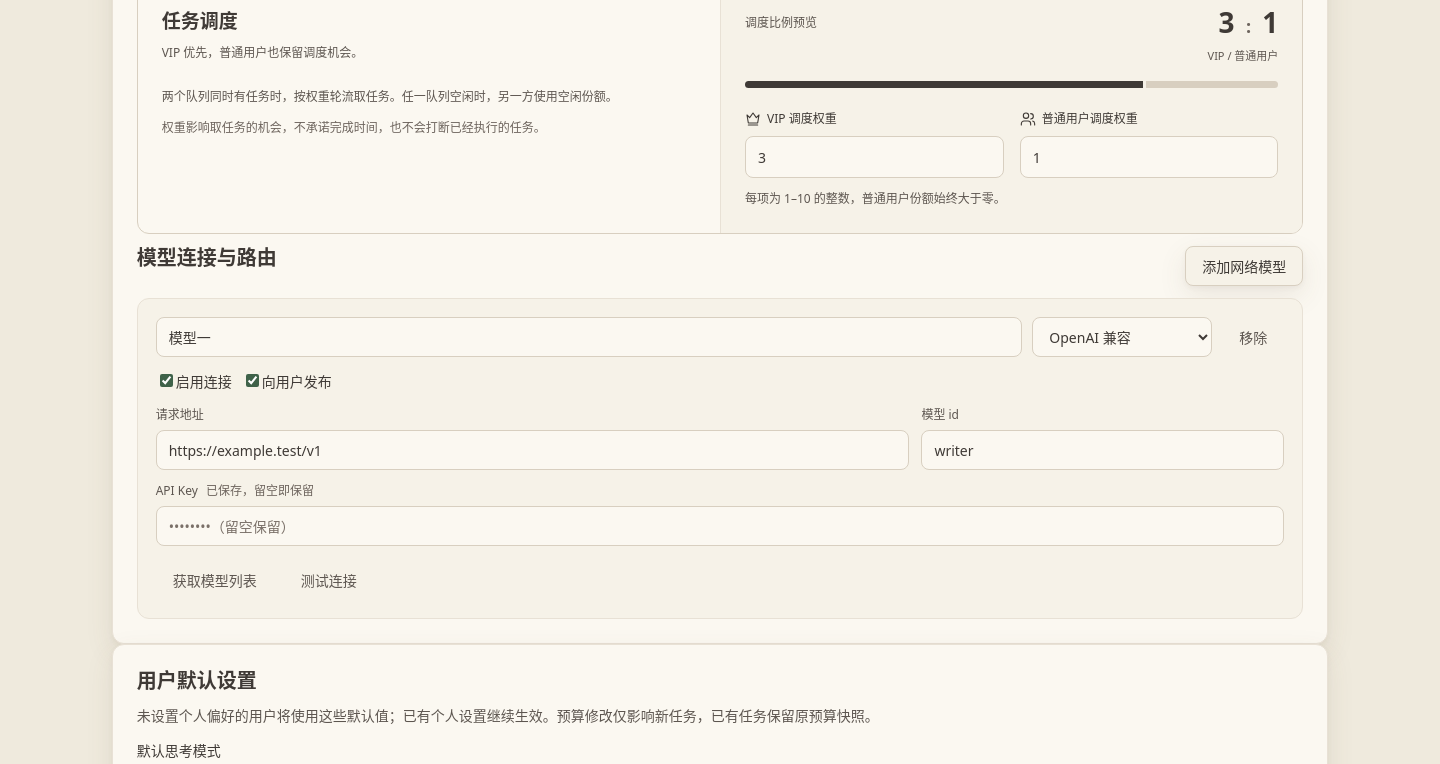
Scenario: saves publication flags, role prompts and version while preserving a blank saved credential
(page scrolled)
Expected: the field showing "模型一" is shown, top-left (156, 317), bottom-right (1022, 357)
Expected: the password field labelled "API Key 已保存，留空即保留" is empty, top-left (156, 506), bottom-right (1284, 546)
Click the checkbox labelled "向用户发布" at (252, 381), box top-left (246, 374), bottom-right (259, 387)
(page scrolled)
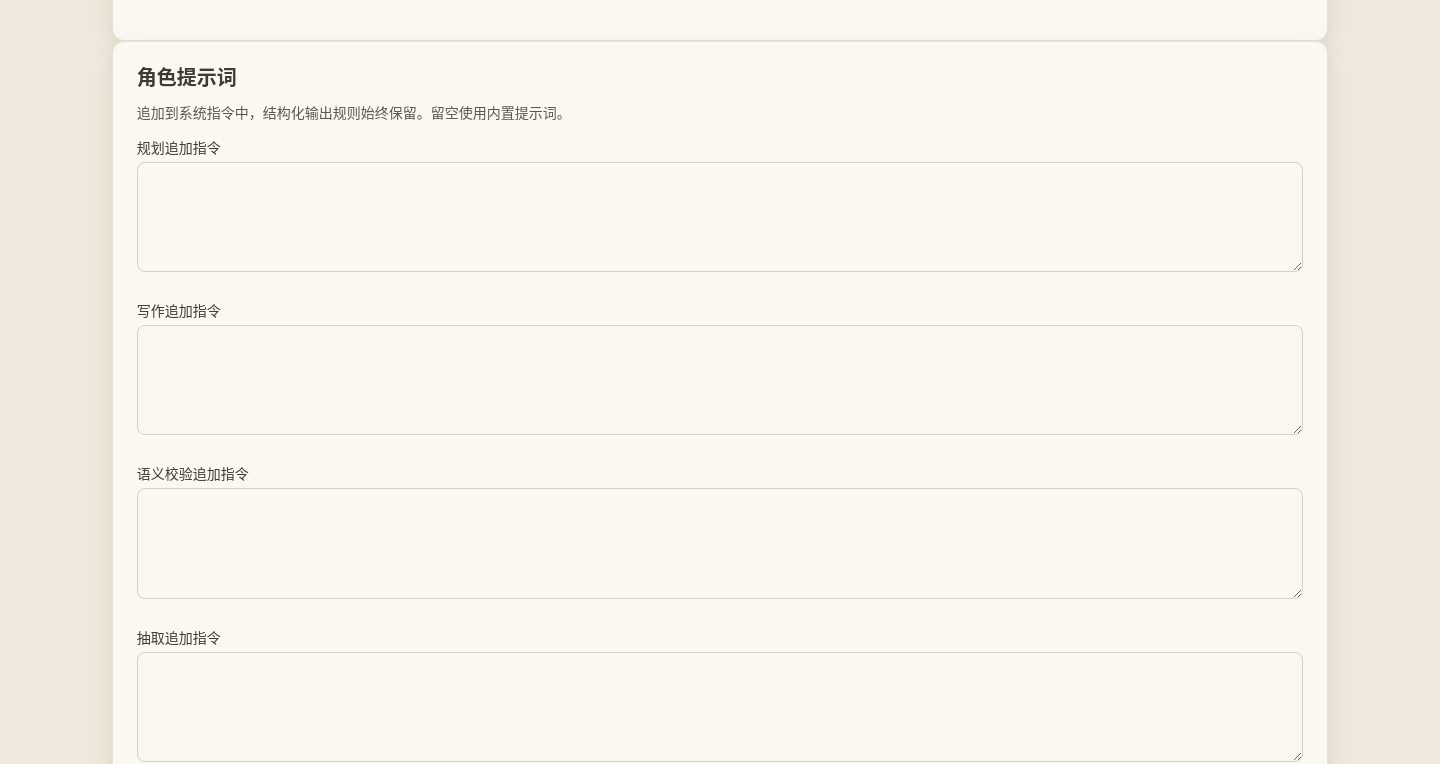
Type "保持中文叙事" into the text box labelled "写作追加指令" at (720, 380), box top-left (137, 325), bottom-right (1303, 435)
(page scrolled)
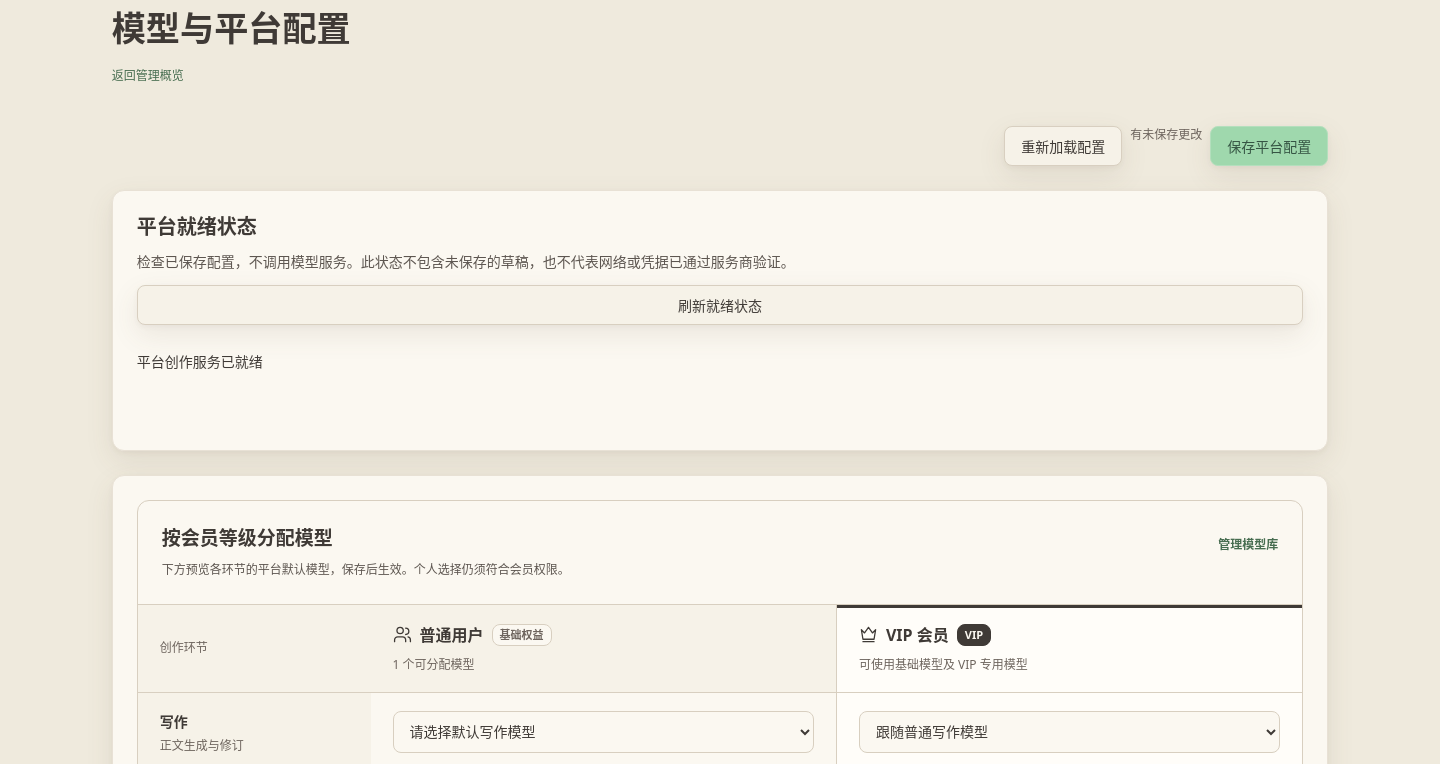
Click the button "保存平台配置" at (1269, 146), box top-left (1210, 126), bottom-right (1328, 166)
(page scrolled)
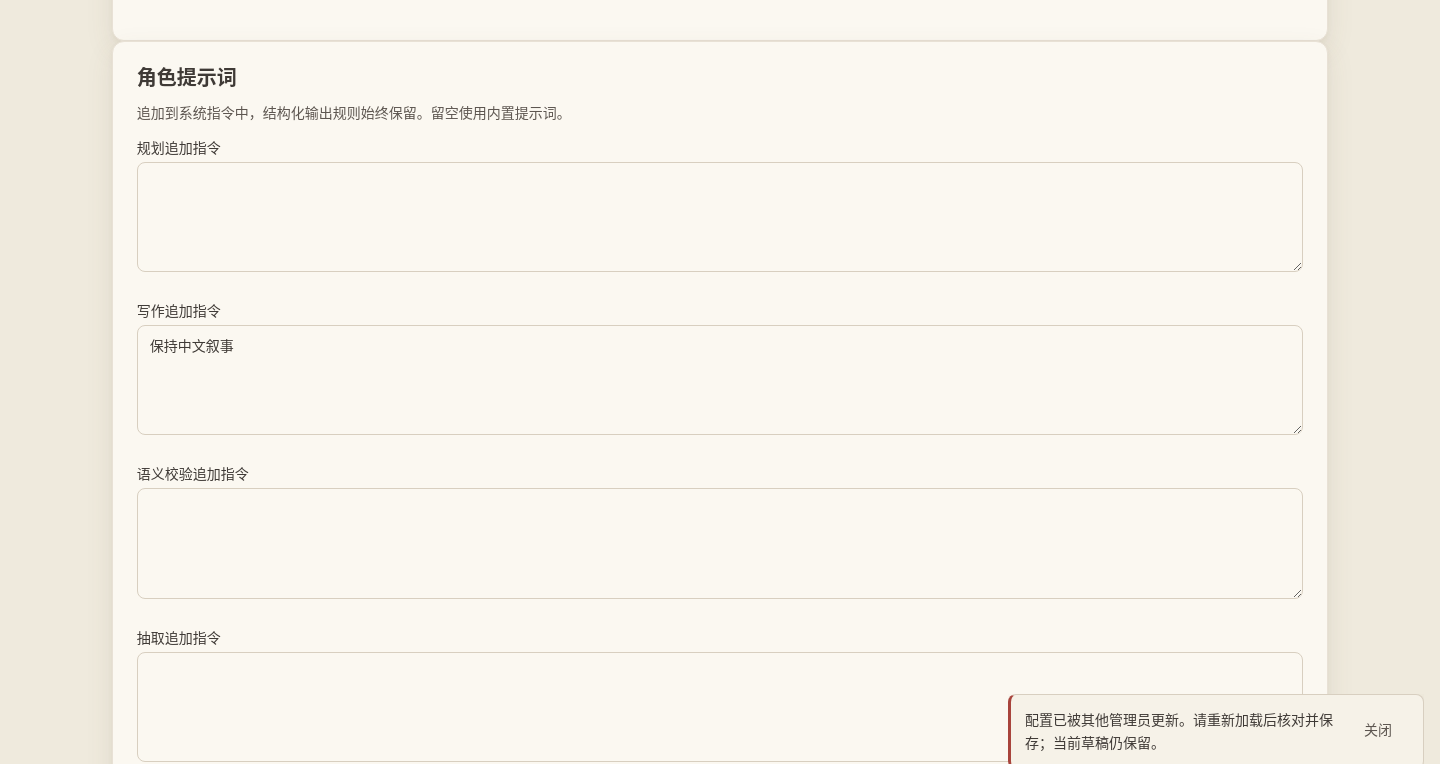
Expected: the text "配置已被其他管理员更新。请重新加载后核对并保存；当前草稿仍保留。" is shown, top-left (1025, 709), bottom-right (1335, 754)
